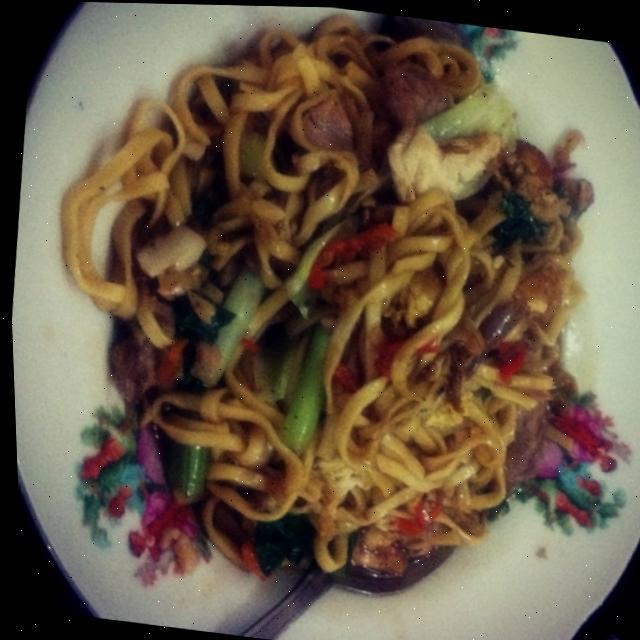面条主食: (16, 0, 640, 639)
